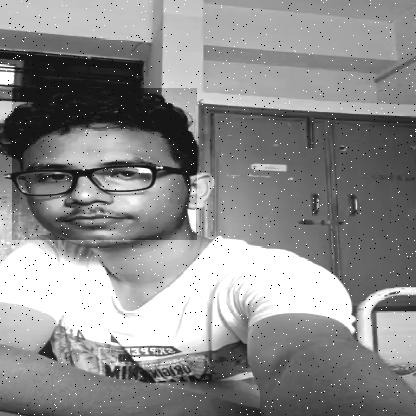Normal: (12, 88, 197, 240)
